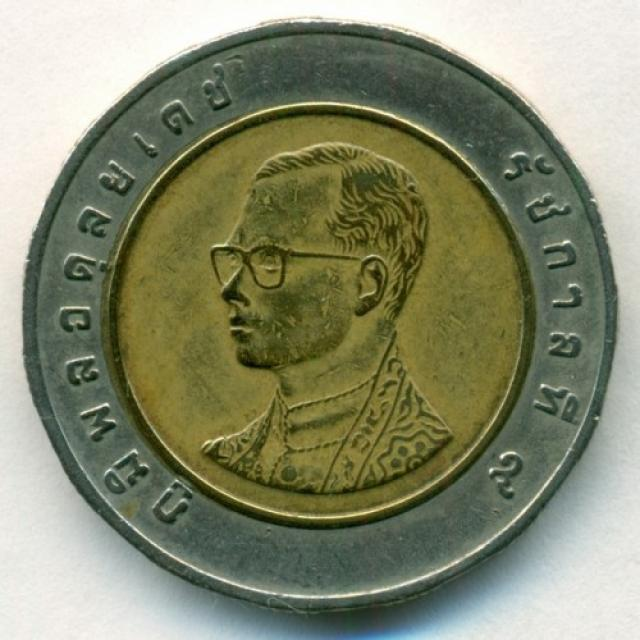10 Bath: (17, 14, 621, 632)
